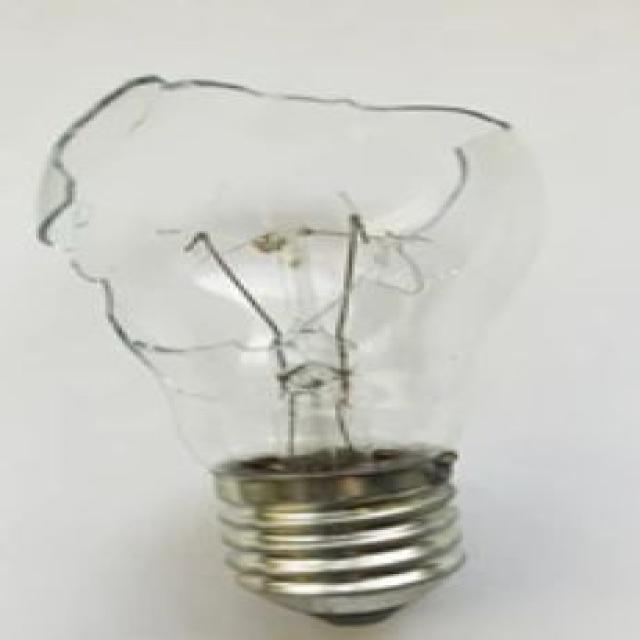electronic: (33, 74, 546, 626)
